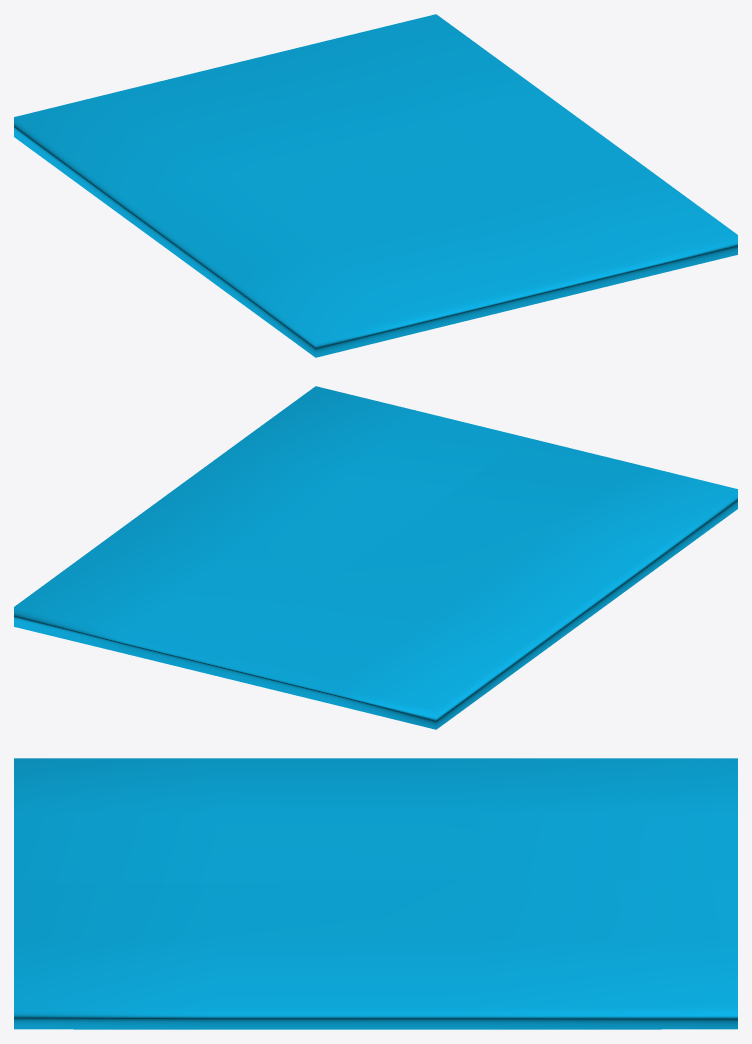
Rendered from Table_Large_03.fbx.
The picture shows the model from 3 angles, top to bottom: view 1: azimuth 30°, elevation 25°; view 2: azimuth 150°, elevation 25°; view 3: azimuth 270°, elevation 25°; orthographic projection. The views are drawn at different scales.
Parts seen in each view (by area): view 1: Table_Large_03; view 2: Table_Large_03; view 3: Table_Large_03.
Part boxes in pixels (x1,y1,x2,y2): Table_Large_03: [14, 14, 737, 357]; Table_Large_03: [14, 386, 737, 729]; Table_Large_03: [14, 758, 737, 1029].
Bounding box in the file's own units: 160 × 8.54 × 198.
